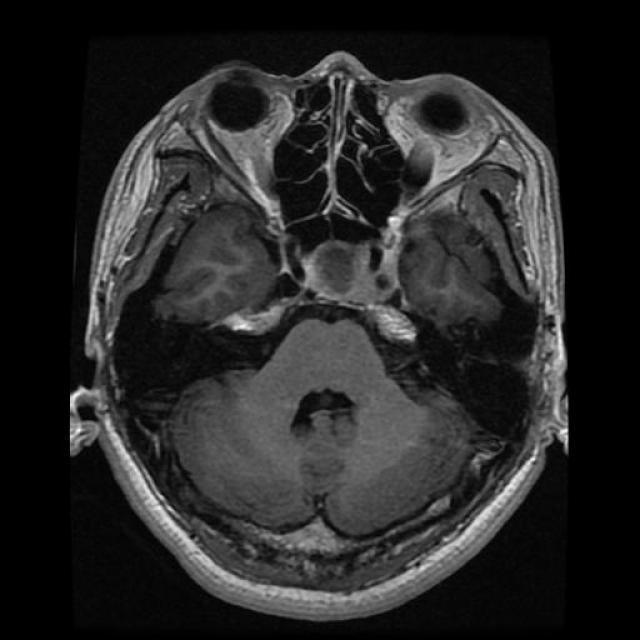pituitary: (222, 238, 426, 342)
